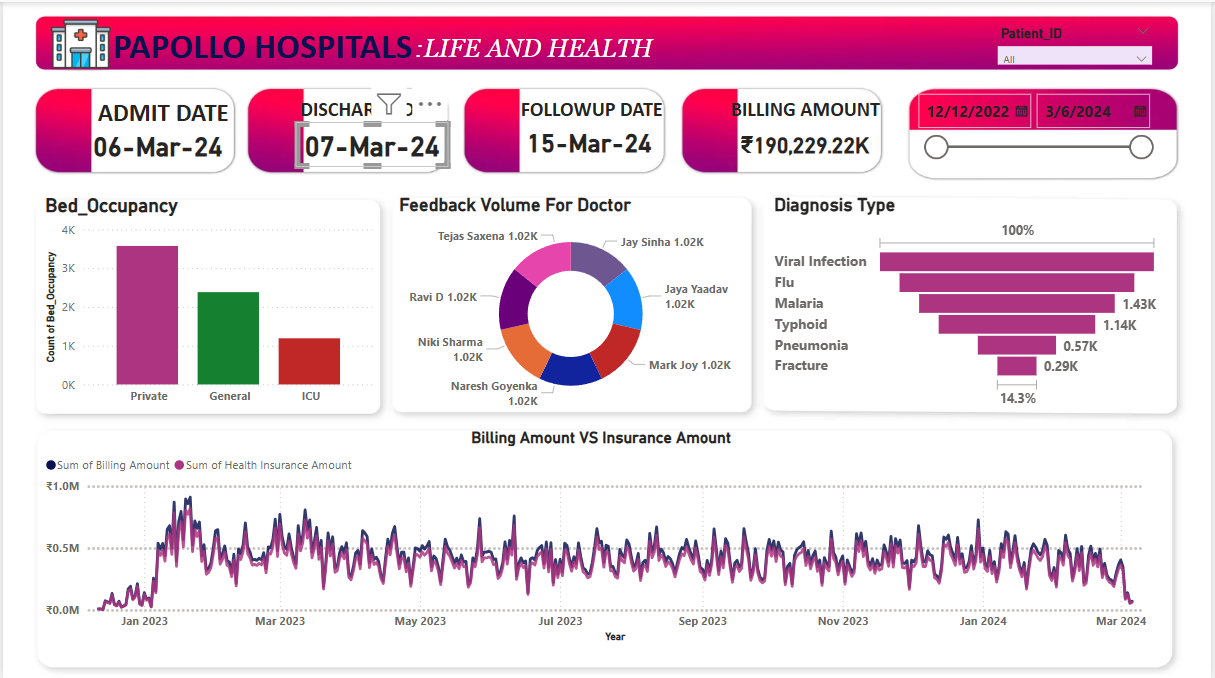

The dashboard page shown, as its layout file describes it:
{"tool":"powerbi","page":{"name":"Page 1","canvas":[1280,720],"ordinal":0},"visuals":[{"type":"textbox","box":[111.5,18.9,353.4,64.3],"z":0},{"type":"image","box":[39.7,0,85,79.4],"z":1},{"type":"textbox","box":[430.9,28.3,493.2,43.5],"z":2},{"type":"slicer","fields":{"Values":["Sheet1.Patient_ID"]},"box":[1045,18.9,183.3,47.2],"z":3},{"type":"card","fields":{"Values":["Sheet1.Admit_Date"]},"box":[40.4,126.8,248.2,49.6],"z":4},{"type":"textbox","box":[95.6,95.6,174.6,62.5],"z":5},{"type":"textbox","box":[310.7,95.6,180.1,62.5],"z":6},{"type":"textbox","box":[544.1,95.6,176.5,49.6],"z":7},{"type":"textbox","box":[766.5,95.6,191.2,62.5],"z":8},{"type":"card","fields":{"Values":["Sheet1.Discharge_Date"]},"box":[310.7,126.8,161.8,47.8],"z":9},{"type":"card","fields":{"Values":["Sheet1.Followup Date"]},"box":[544.1,104.8,154.4,86.4],"z":12},{"type":"card","fields":{"Values":["Sheet1.Billing Amount"]},"box":[740.8,112.1,216.9,79],"z":13},{"type":"slicer","fields":{"Values":["Sheet1.Admit_Date"]},"box":[957.5,87.5,270.4,89.1],"z":14},{"type":"columnChart","title":" Bed_Occupancy","fields":{"Category":["Sheet1.Bed_Occupancy"],"Y":["Sheet1.Bed_Occupancy"]},"box":[40.4,204,360.3,231.6],"z":15},{"type":"donutChart","title":"Feedback Volume  For Doctor","fields":{"Category":["Sheet1.Doctor"],"Y":["Sheet1.Doctor"]},"box":[415.4,204,373.2,231.6],"z":16},{"type":"funnel","title":" Diagnosis Type","fields":{"Category":["Sheet1.Diagnosis"],"Y":["Sheet1.Diagnosis"]},"box":[812.5,204,417.3,231.6],"z":17},{"type":"lineChart","title":" Billing Amount VS  Insurance Amount ","fields":{"Y":["Sheet1.Billing Amount","Sheet1.Health Insurance Amount"],"Category":["Sheet1.Admit_Date.Variation.Date Hierarchy.Year","Sheet1.Admit_Date.Variation.Date Hierarchy.Quarter","Sheet1.Admit_Date.Variation.Date Hierarchy.Month","Sheet1.Admit_Date.Variation.Date Hierarchy.Day"]},"box":[40.4,452.2,1189.3,231.6],"z":18}]}

Visuals, with their boxes in screenshot pixels (x1, y1, x2, y2), scaled from the page's 1280x720 canvas onto the 1215x678 screenshot:
textbox: [106, 18, 441, 78]
image: [38, 0, 118, 75]
textbox: [409, 27, 877, 68]
slicer - Sheet1.Patient_ID: [992, 18, 1166, 62]
card - Sheet1.Admit_Date: [38, 119, 274, 166]
textbox: [91, 90, 256, 149]
textbox: [295, 90, 466, 149]
textbox: [516, 90, 684, 137]
textbox: [728, 90, 909, 149]
card - Sheet1.Discharge_Date: [295, 119, 449, 164]
card - Sheet1.Followup Date: [516, 99, 663, 180]
card - Sheet1.Billing Amount: [703, 106, 909, 180]
slicer - Sheet1.Admit_Date: [909, 82, 1166, 166]
" Bed_Occupancy" columnChart: [38, 192, 380, 410]
"Feedback Volume  For Doctor" donutChart: [394, 192, 749, 410]
" Diagnosis Type" funnel: [771, 192, 1167, 410]
" Billing Amount VS  Insurance Amount " lineChart: [38, 426, 1167, 644]
